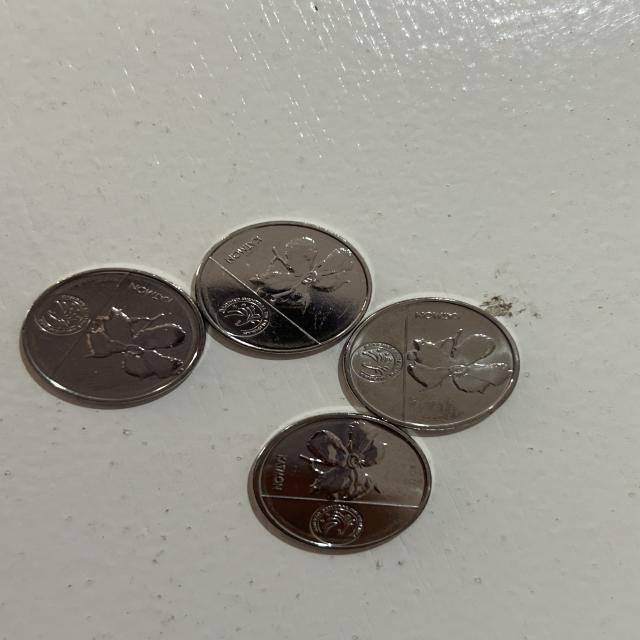25Cent_New_Back: (235, 235, 356, 315), (74, 300, 187, 383), (402, 318, 512, 402), (284, 428, 396, 496)
